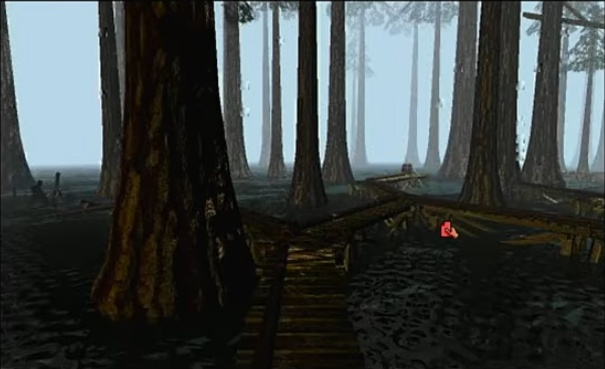Keep: (438, 217, 460, 241)
